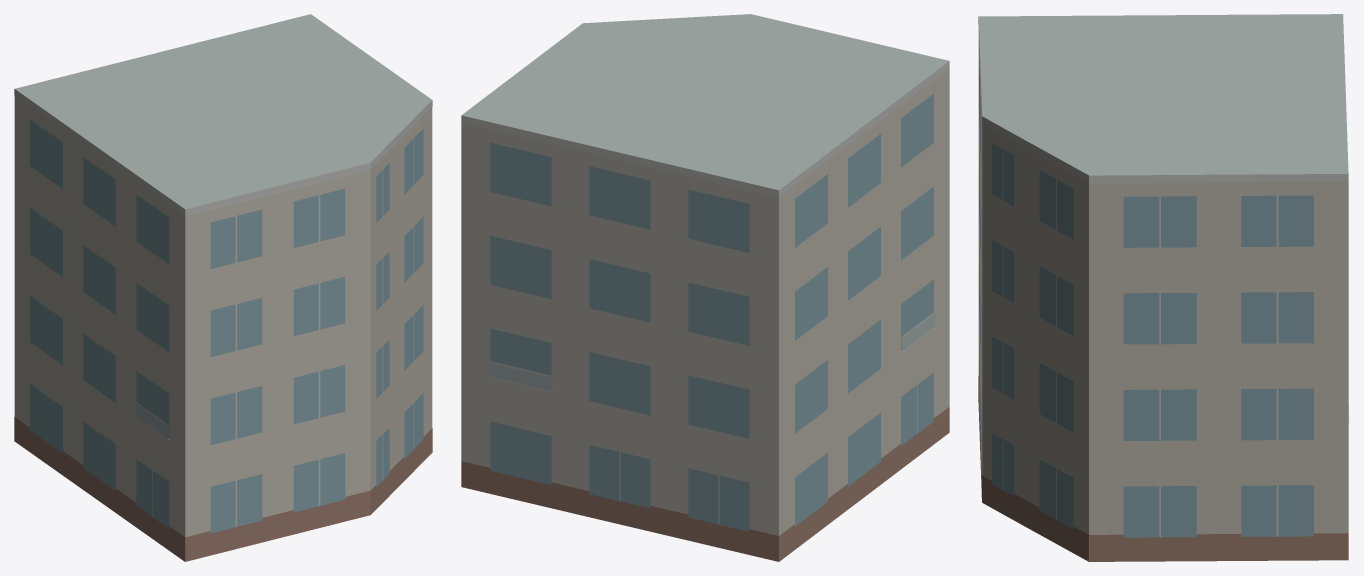
File: residential-5a7033e4-4c4e-4dbb-bd2b-16a3328d7e5a.glb
3 views of the same model, side by side, from view 1: azimuth 30°, elevation 25°; view 2: azimuth 150°, elevation 25°; view 3: azimuth 270°, elevation 25° (orthographic). The views are drawn at different scales.
Parts seen in each view (by area): view 1: residential-5a7033e4-4c4e-4dbb-bd2b-16a3328d7e5a.tmp; view 2: residential-5a7033e4-4c4e-4dbb-bd2b-16a3328d7e5a.tmp; view 3: residential-5a7033e4-4c4e-4dbb-bd2b-16a3328d7e5a.tmp.
Boxes of the visible parts, x1,y1,x2,y2 form: residential-5a7033e4-4c4e-4dbb-bd2b-16a3328d7e5a.tmp: [14, 14, 432, 561]; residential-5a7033e4-4c4e-4dbb-bd2b-16a3328d7e5a.tmp: [461, 14, 949, 561]; residential-5a7033e4-4c4e-4dbb-bd2b-16a3328d7e5a.tmp: [978, 14, 1349, 561].
Bounding box in the file's own units: 10.95 × 12.2 × 10.62.
